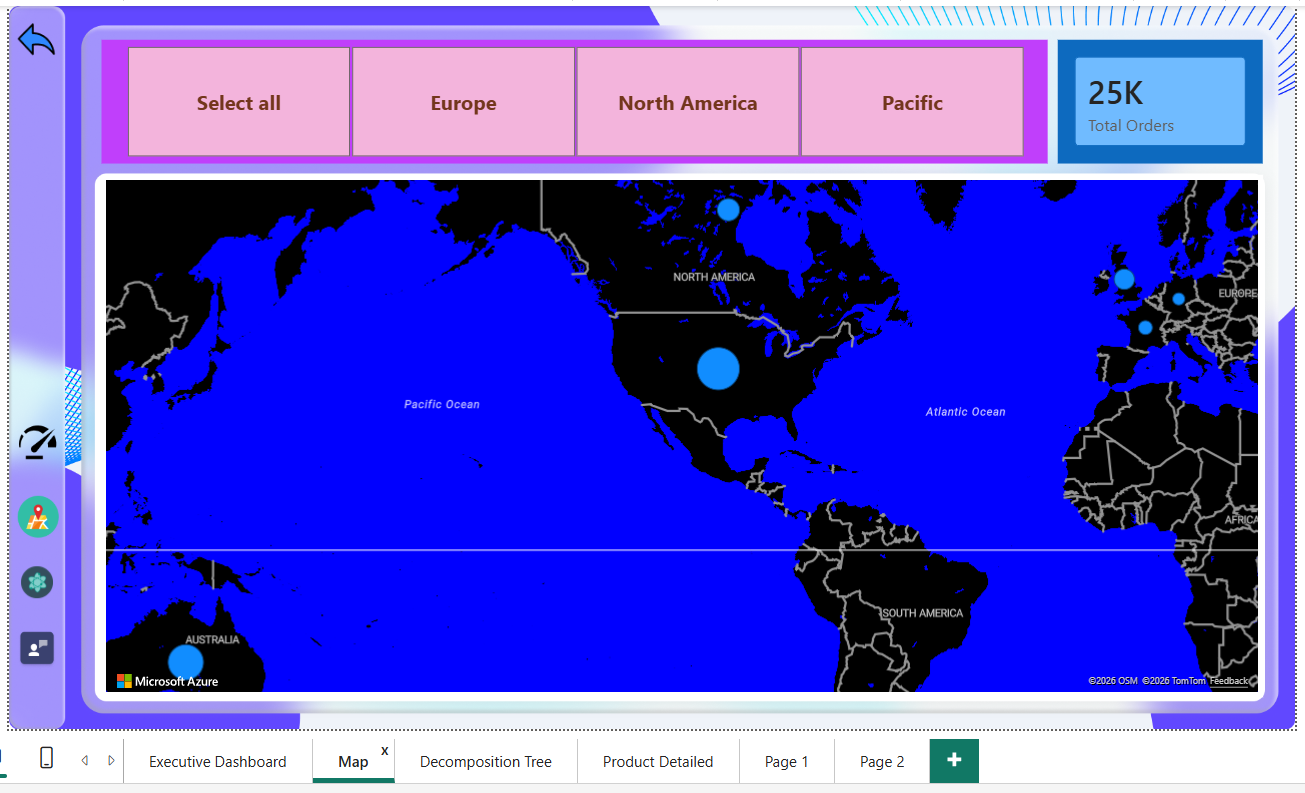

Layout of this report page (visuals, bound fields, positions):
{"tool":"powerbi","page":{"name":"Map","canvas":[1280,720],"ordinal":1},"visuals":[{"type":"shape","box":[0,0,45,720],"z":0},{"type":"actionButton","box":[2.5,516.7,45.6,37.8],"z":0,"group":"g1"},{"type":"actionButton","box":[3.3,563.4,45.6,37.8],"z":1000,"group":"g1"},{"type":"map","fields":{"Category":["Territory Lookup.Country"],"Size":["Measure Table.Total Orders"]},"box":[65.6,82.5,1191.3,622.8],"z":1000},{"type":"slicer","fields":{"Values":["Territory Lookup.Continent"]},"box":[43,13.6,1234.3,65.6],"z":2000},{"type":"actionButton","box":[3.3,611.1,45.6,37.8],"z":2000,"group":"g1"},{"type":"actionButton","box":[3.3,657.8,45.6,37.8],"z":3000,"group":"g1"},{"type":"group","id":"g1","title":"Navigation Buttons","box":[2.5,516.7,46.4,178.9],"z":3000}]}

Visuals, with their boxes on the page's 1280x720 design canvas (x1, y1, x2, y2). These are canvas units, not pixel positions in the 1305x793 screenshot, which may show the page scaled, cropped or inside an application window:
shape: 0,0,45,720
actionButton: 2,517,48,554
actionButton: 3,563,49,601
map - Territory Lookup.Country x Measure Table.Total Orders: 66,82,1257,705
slicer - Territory Lookup.Continent: 43,14,1277,79
actionButton: 3,611,49,649
actionButton: 3,658,49,696
"Navigation Buttons" group: 2,517,49,696
